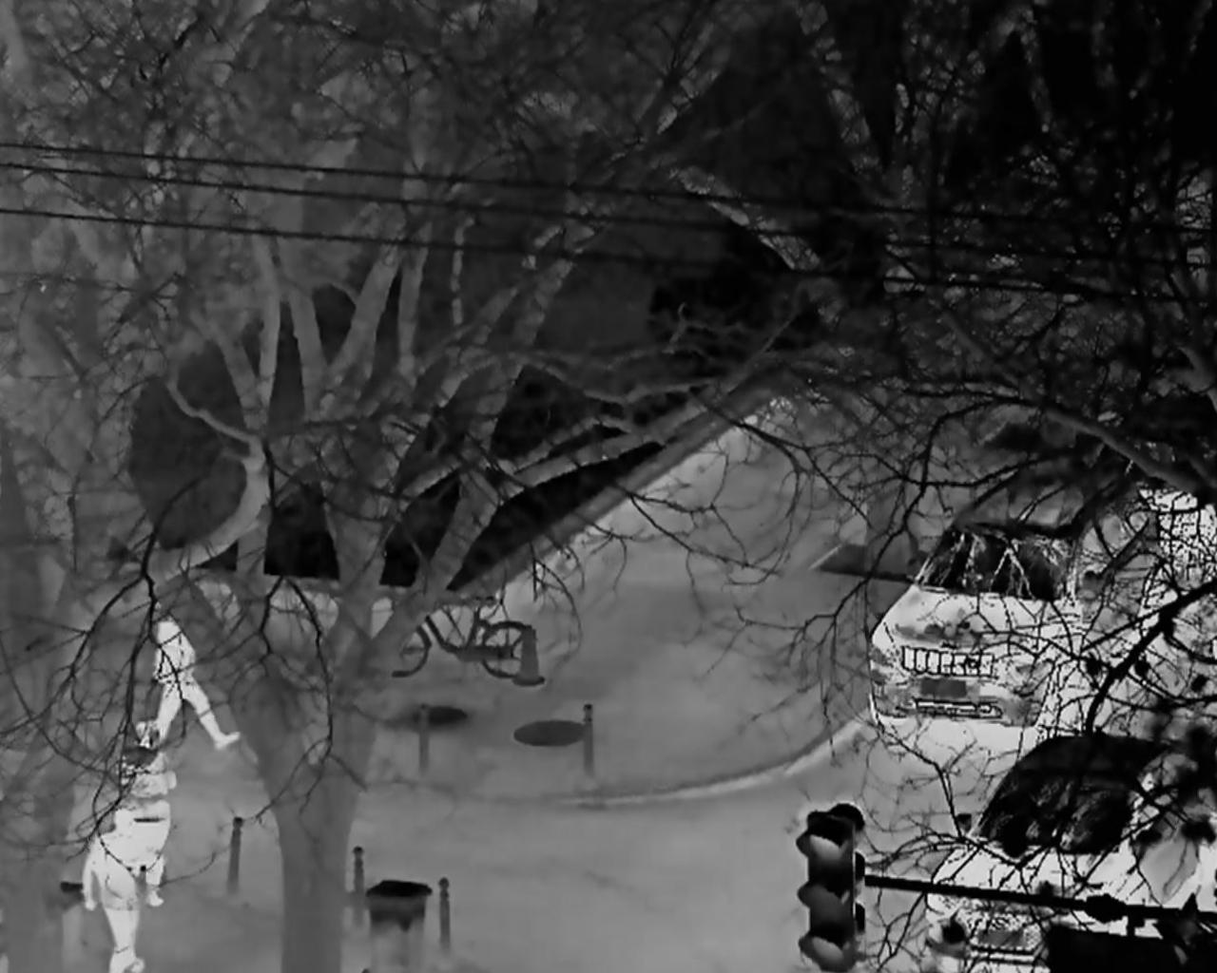person: (152, 612, 240, 754), (77, 808, 151, 973), (128, 721, 174, 907)
